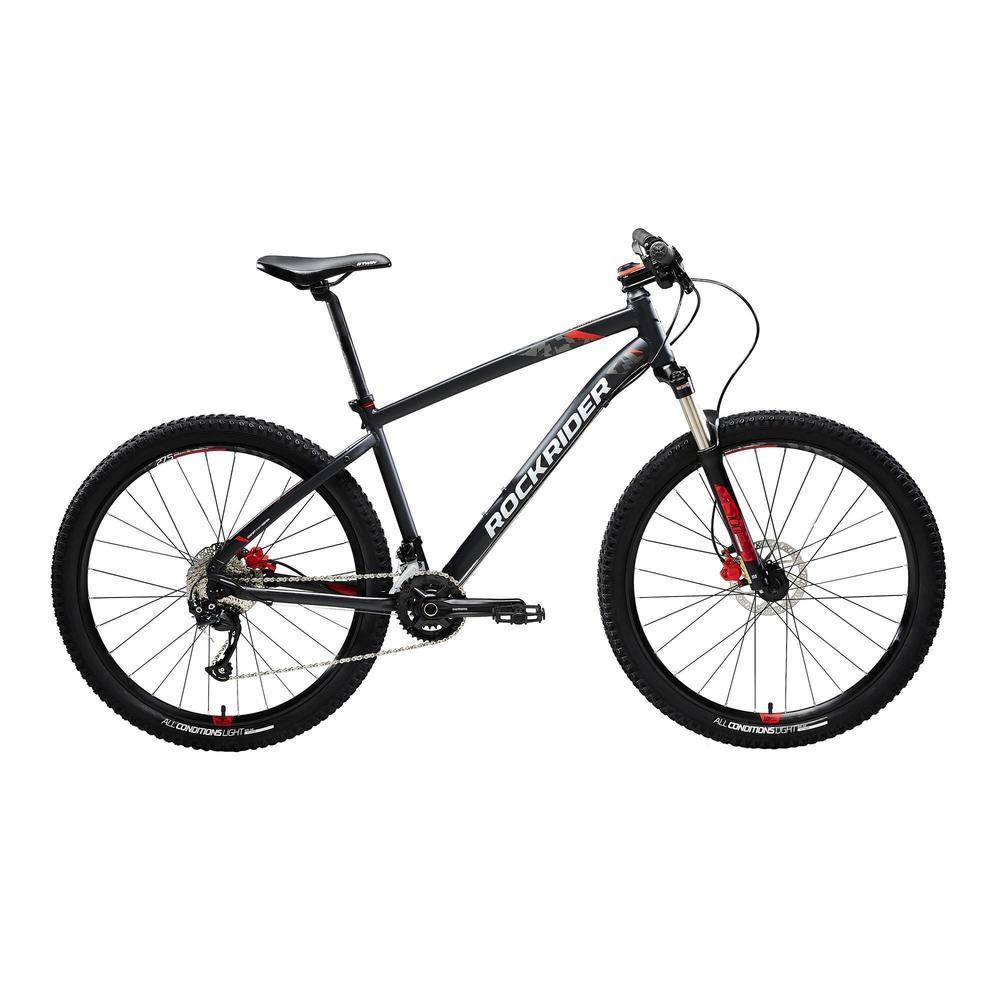MountainBike: (38, 229, 931, 762)
